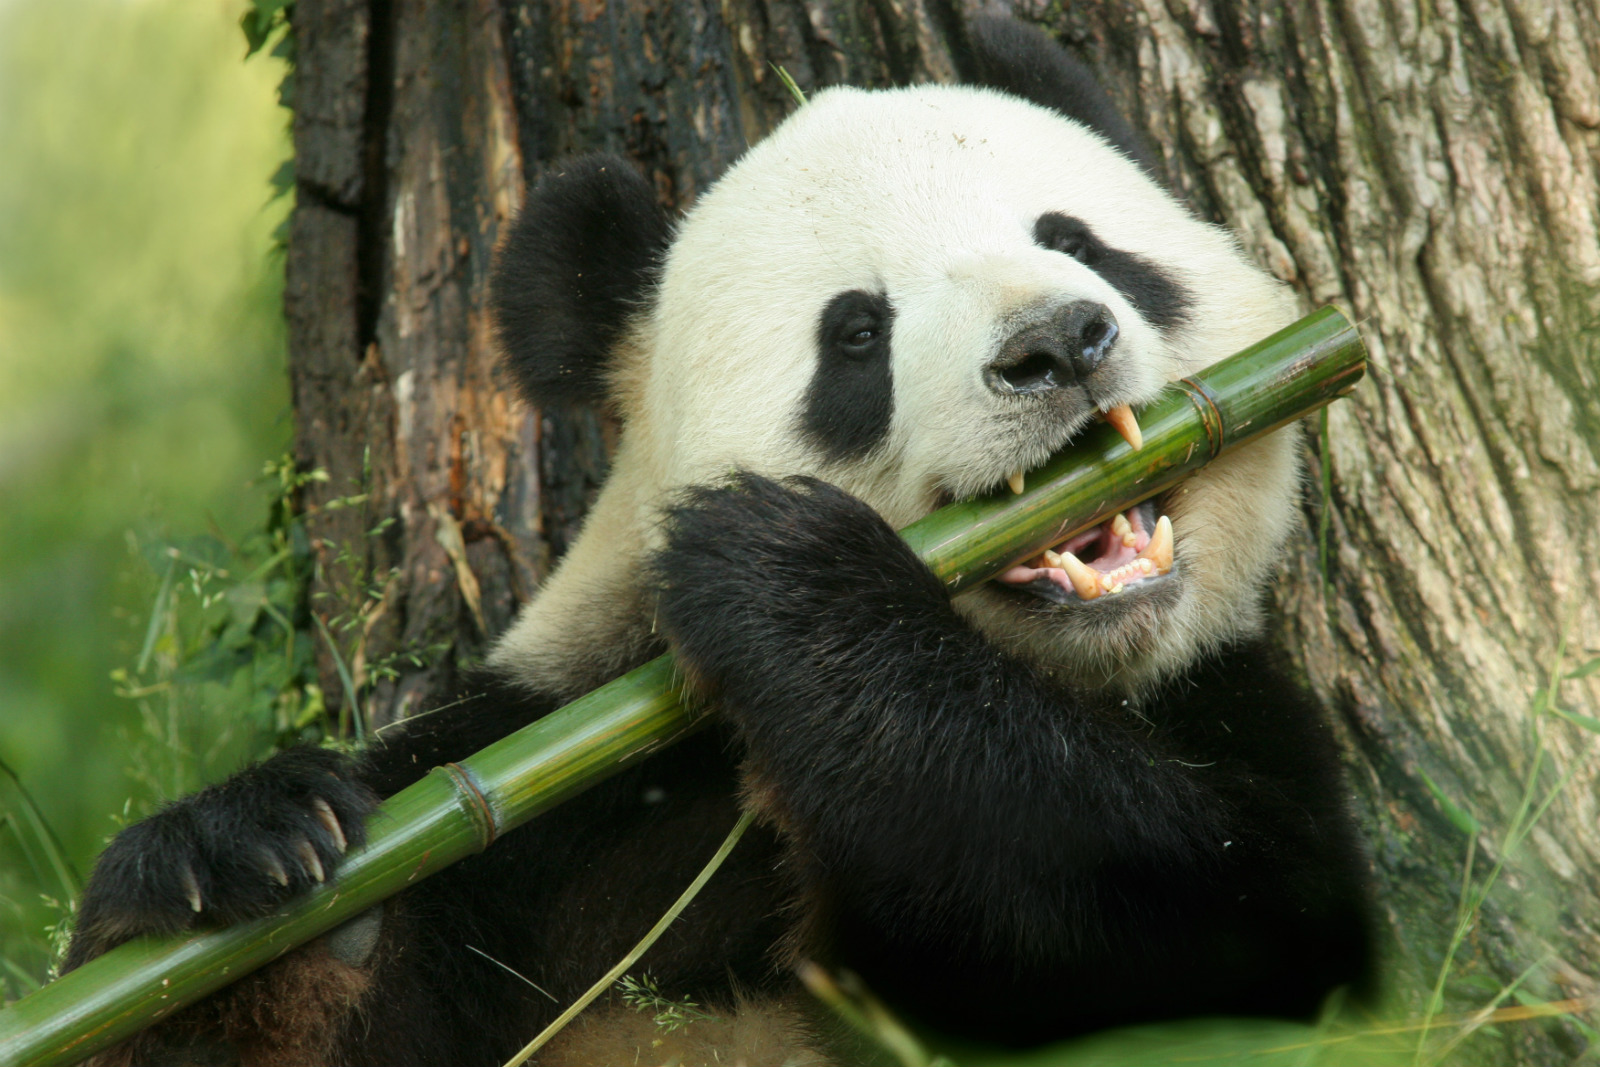panda: (52, 51, 1439, 1067)
